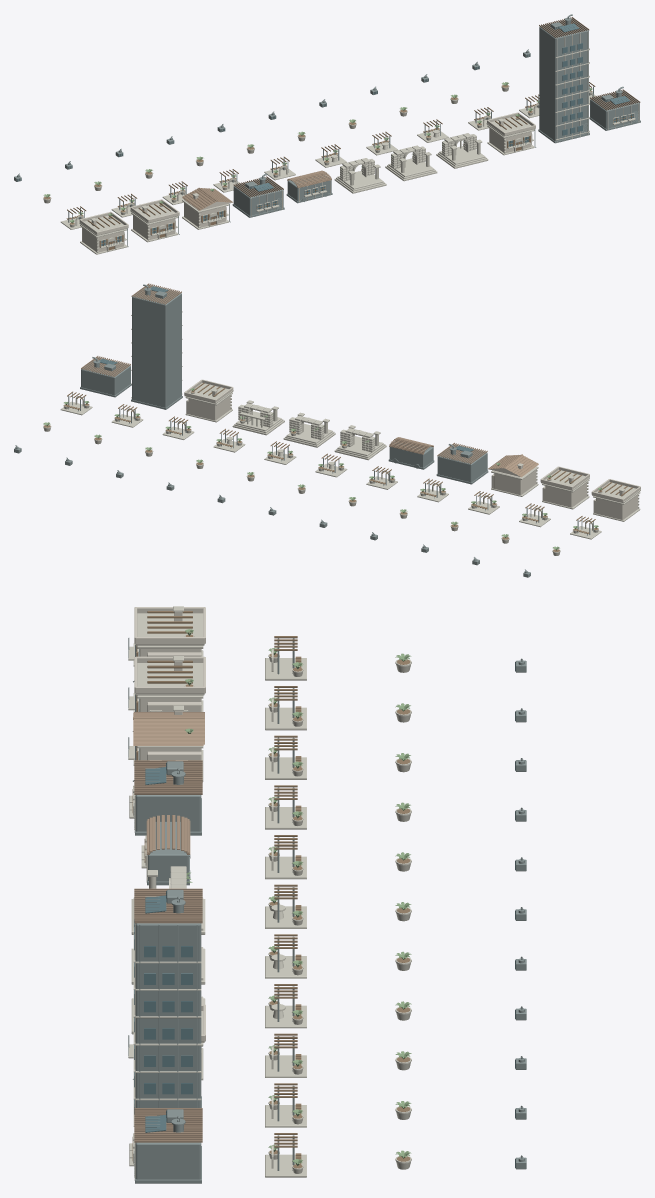
Rendered from architecture.glb.
3 views of the same model, one above another, from view 1: azimuth 30°, elevation 25°; view 2: azimuth 150°, elevation 25°; view 3: azimuth 270°, elevation 25° (orthographic). The views are drawn at different scales.
Parts seen in each view (by area): view 1: vertigo__building, nuke__building, cache__building, overpass__building, dust2__building, mirage__building, inferno__building, anubis__building, ancient__building, ancient_night__building, train__building, train__pocket (+3 smaller); view 2: vertigo__building, nuke__building, cache__building, mirage__building, inferno__building, dust2__building, overpass__building, train__building, anubis__building, ancient_night__building, ancient__building, mirage__pocket (+7 smaller); view 3: vertigo__building, cache__building, nuke__building, mirage__building, inferno__building, dust2__building, train__building, anubis__pocket, cache__pocket, mirage__pocket, train__pocket, dust2__pocket (+7 smaller).
Part boxes in pixels (x1=…): vertigo__building: x1=538, y1=14, x2=589, y2=143; nuke__building: x1=232, y1=173, x2=284, y2=217; cache__building: x1=589, y1=86, x2=640, y2=130; overpass__building: x1=486, y1=112, x2=536, y2=155; dust2__building: x1=79, y1=211, x2=128, y2=254; mirage__building: x1=130, y1=199, x2=179, y2=242; inferno__building: x1=182, y1=187, x2=232, y2=229; anubis__building: x1=436, y1=133, x2=488, y2=168; ancient__building: x1=334, y1=158, x2=386, y2=193; ancient_night__building: x1=385, y1=145, x2=437, y2=181; train__building: x1=286, y1=170, x2=332, y2=203; train__pocket: x1=264, y1=156, x2=295, y2=180; vertigo__building: x1=131, y1=283, x2=182, y2=409; nuke__building: x1=436, y1=442, x2=488, y2=484; cache__building: x1=80, y1=356, x2=131, y2=397; mirage__building: x1=540, y1=466, x2=589, y2=509; inferno__building: x1=488, y1=454, x2=538, y2=496; dust2__building: x1=591, y1=479, x2=640, y2=521; overpass__building: x1=184, y1=379, x2=233, y2=422; train__building: x1=388, y1=437, x2=434, y2=469; anubis__building: x1=232, y1=400, x2=284, y2=435; ancient_night__building: x1=283, y1=412, x2=335, y2=447; ancient__building: x1=334, y1=425, x2=386, y2=460; mirage__pocket: x1=519, y1=503, x2=550, y2=527; vertigo__building: x1=133, y1=888, x2=202, y2=1126; cache__building: x1=129, y1=1108, x2=202, y2=1183; nuke__building: x1=129, y1=760, x2=202, y2=835; mirage__building: x1=128, y1=656, x2=205, y2=731; inferno__building: x1=128, y1=705, x2=204, y2=781; dust2__building: x1=128, y1=606, x2=205, y2=682; train__building: x1=141, y1=815, x2=190, y2=885; anubis__pocket: x1=265, y1=984, x2=306, y2=1028; cache__pocket: x1=265, y1=1133, x2=306, y2=1177; mirage__pocket: x1=265, y1=686, x2=306, y2=730; train__pocket: x1=265, y1=835, x2=306, y2=879; dust2__pocket: x1=265, y1=636, x2=306, y2=680.
Bounding box in the file's own units: 74.84 × 15.07 × 23.72.
